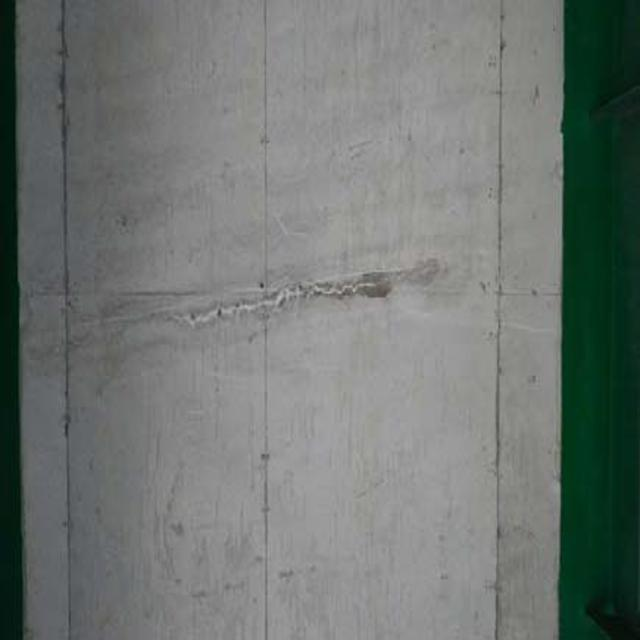freelime: (160, 236, 403, 350)
